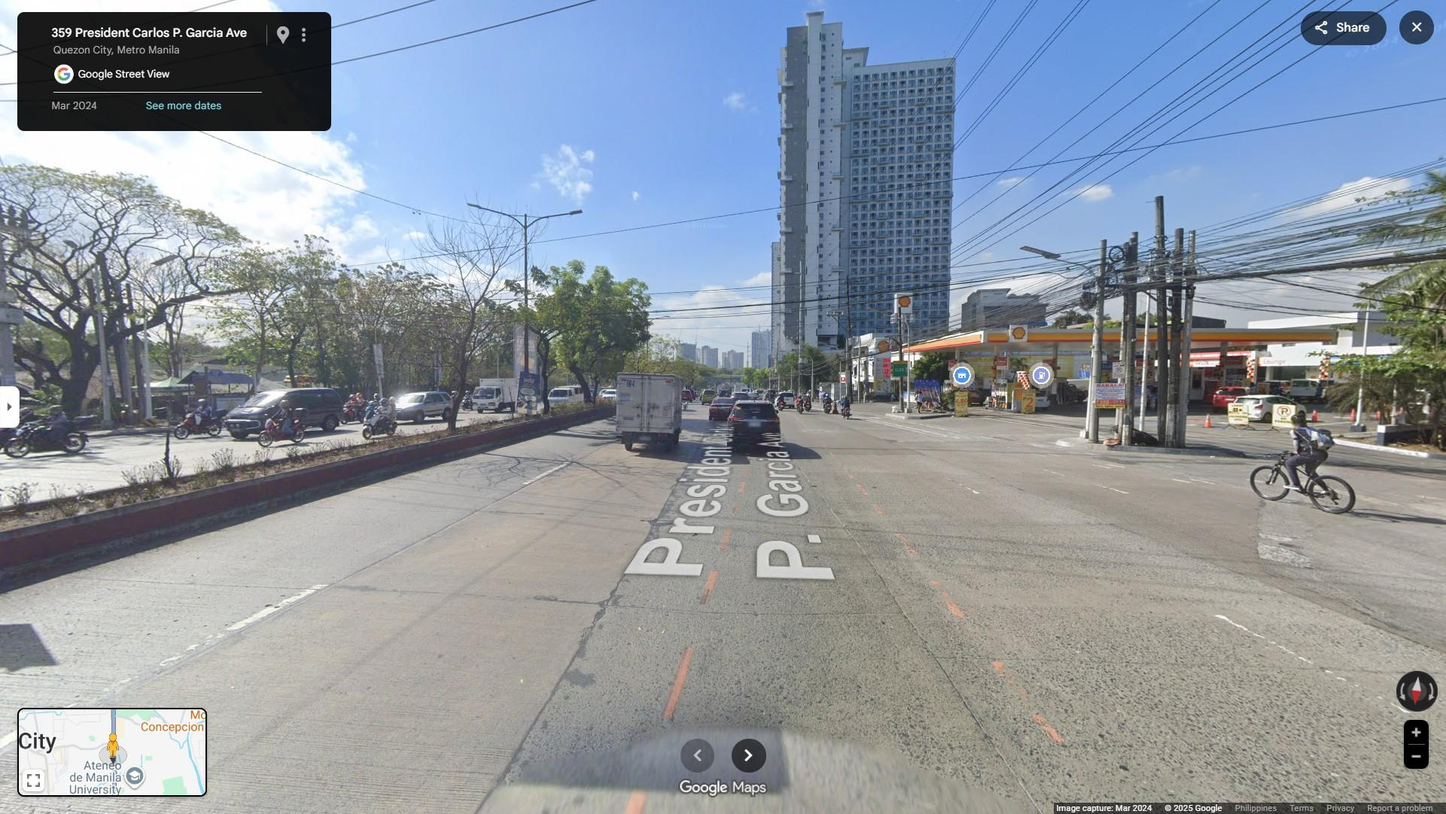cyclist: (1249, 408, 1357, 515)
pedestrian: (914, 391, 923, 415), (818, 390, 824, 403)
